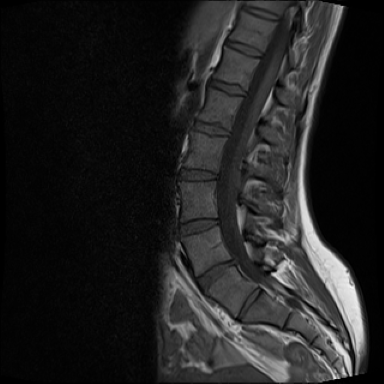Lumbar Disc Bulge (LDB): (187, 249, 249, 301)
Normal IVD: (171, 206, 225, 244), (214, 34, 267, 62), (199, 73, 250, 101), (165, 162, 220, 187), (185, 115, 233, 141), (240, 2, 285, 26)
Spinal Stenosis (SS): (219, 245, 244, 282)
